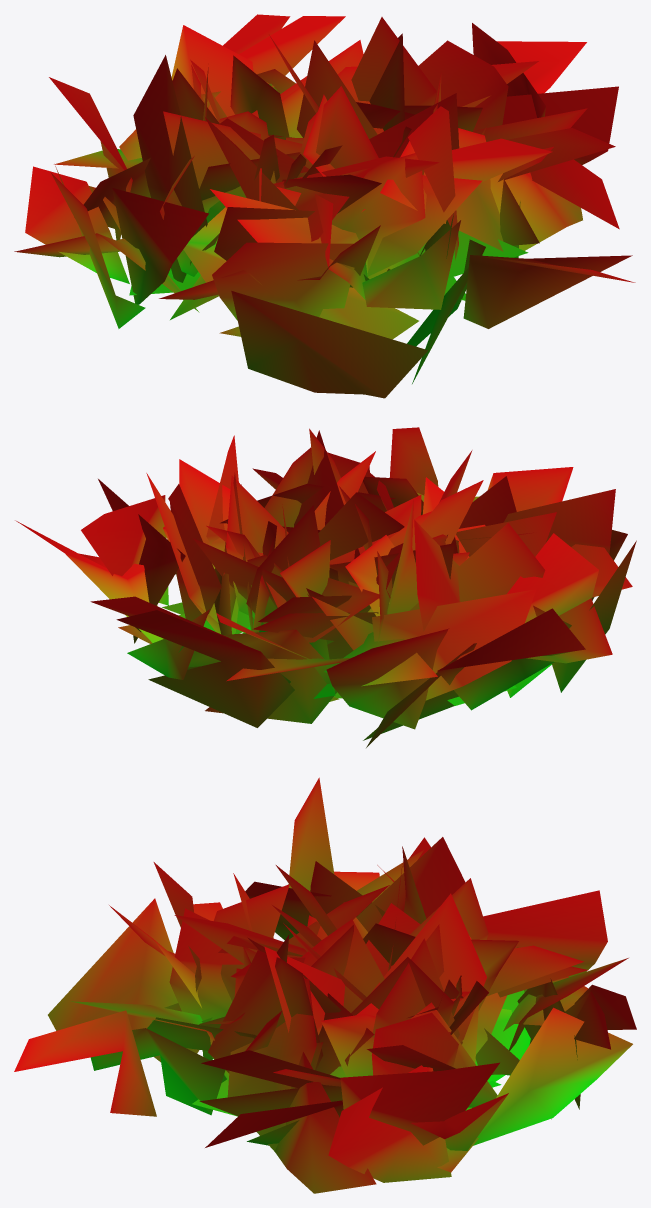
Rendered from Kikuyu Grass_LOD5_Var8_wiljearqx.fbx.
3 renders of one model, top to bottom at view 1: azimuth 30°, elevation 25°; view 2: azimuth 150°, elevation 25°; view 3: azimuth 270°, elevation 25°, orthographic. The views are drawn at different scales.
Parts seen in each view (by area): view 1: _8u4w_Var8_LOD5; view 2: _8u4w_Var8_LOD5; view 3: _8u4w_Var8_LOD5.
Part boxes in pixels (left/top/right/bottom): _8u4w_Var8_LOD5: left=14, top=14, right=635, bottom=398; _8u4w_Var8_LOD5: left=15, top=427, right=636, bottom=747; _8u4w_Var8_LOD5: left=14, top=777, right=636, bottom=1193.
Size of the model in its own units: 103 by 38.28 by 94.07.
